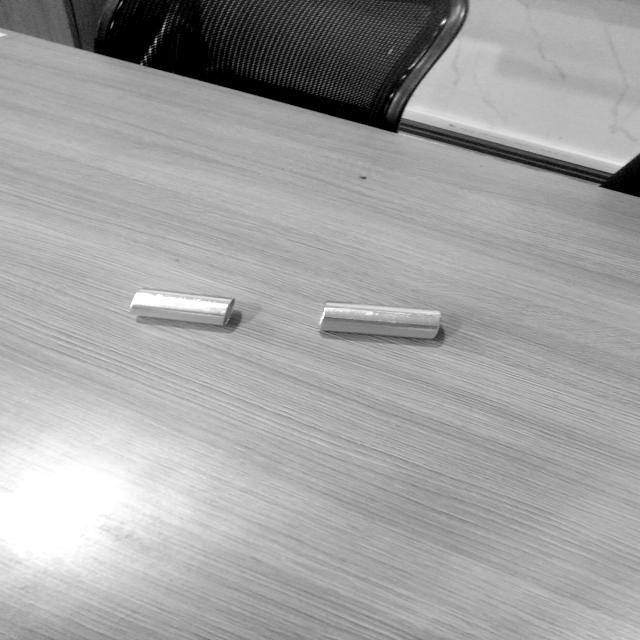Co_Lon: (129, 288, 235, 328)
Co_Nho: (319, 301, 442, 341)
